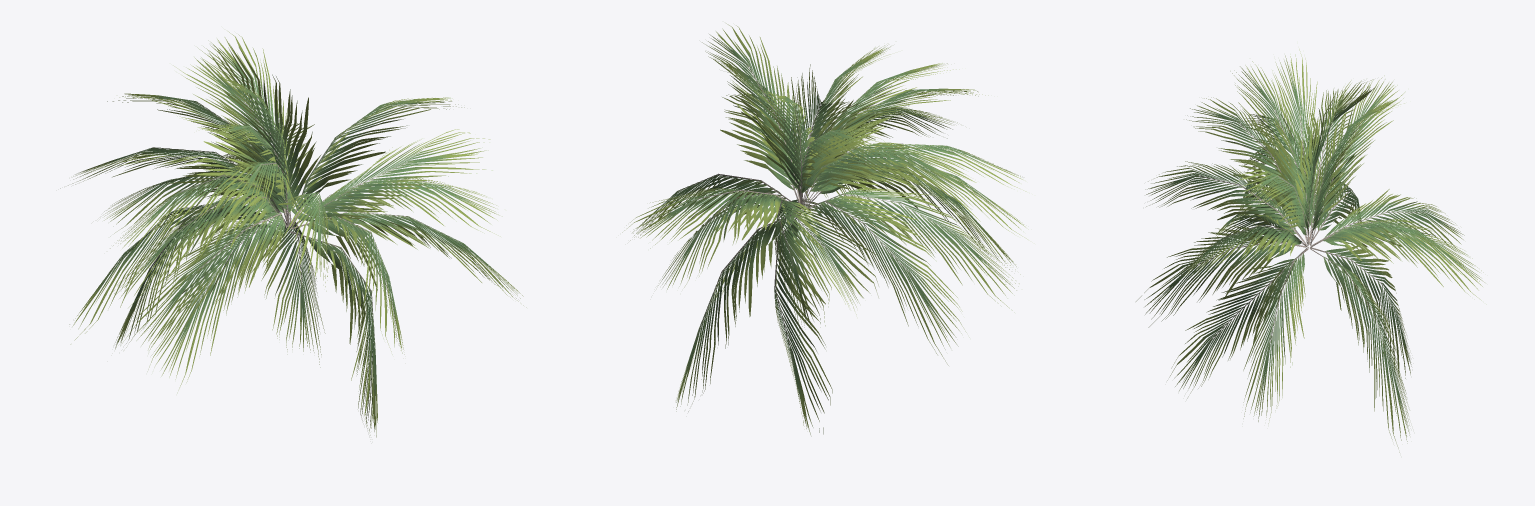
The model's file is m_palm_p2_8_leaf_0.glb.
3 renders of one model, left to right at view 1: azimuth 30°, elevation 25°; view 2: azimuth 150°, elevation 25°; view 3: azimuth 270°, elevation 25°, orthographic. The views are drawn at different scales.
Parts seen in each view (by area): view 1: M_Palm_P2_8_Leaf_0; view 2: M_Palm_P2_8_Leaf_0; view 3: M_Palm_P2_8_Leaf_0.
Part boxes in pixels (x1=…): M_Palm_P2_8_Leaf_0: x1=60, y1=31, x2=526, y2=437; M_Palm_P2_8_Leaf_0: x1=622, y1=23, x2=1028, y2=436; M_Palm_P2_8_Leaf_0: x1=1136, y1=49, x2=1486, y2=452.
Size of the model in its own units: 3.84 by 3.25 by 3.15.
1 material, 1 textured.
